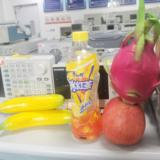apple: (101, 98, 146, 147)
pitaya: (109, 21, 160, 105)
